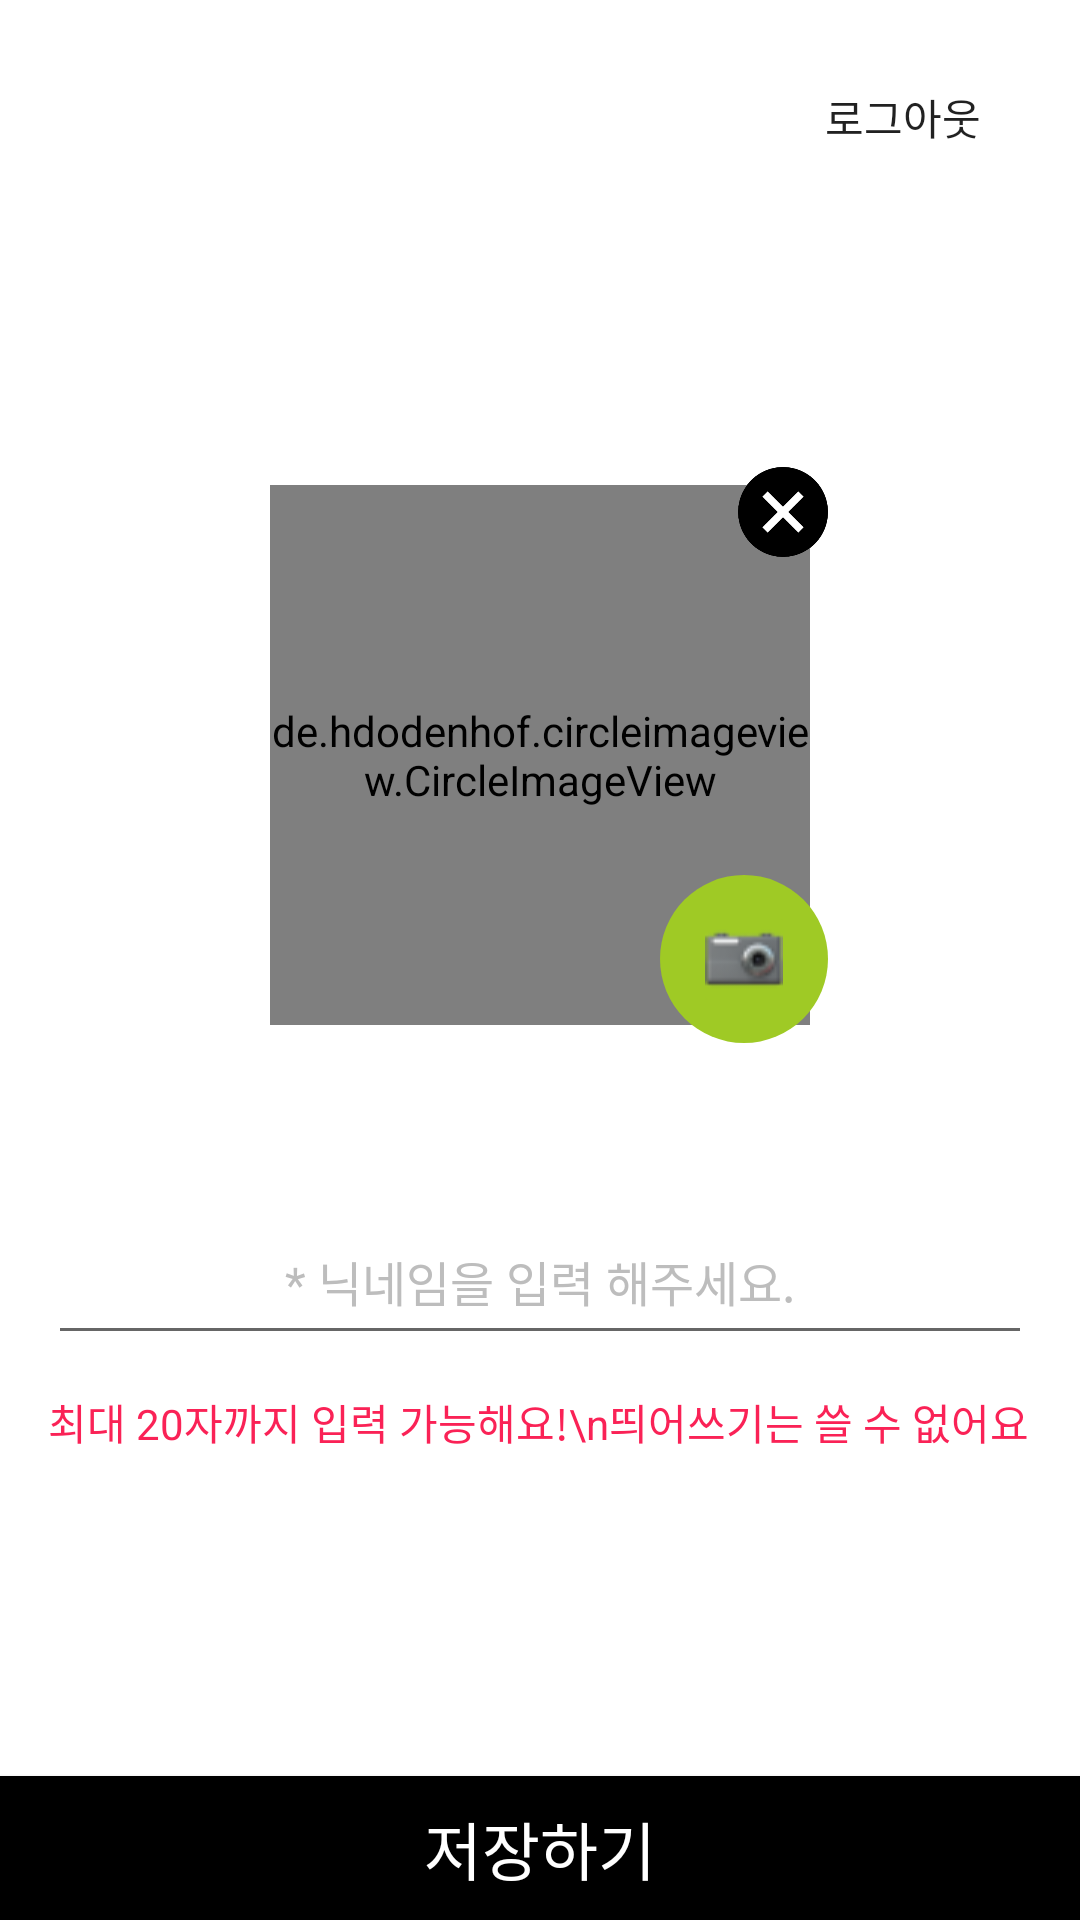

Locate icon controls on the screen. Image size 1080×1920, boxes as [x1,y1,x2,y2].
camera: [705,932,783,986]
delete: [738,467,828,557]
